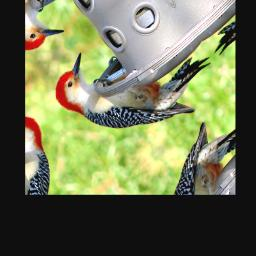Woodpecker: (44, 0, 229, 180)
